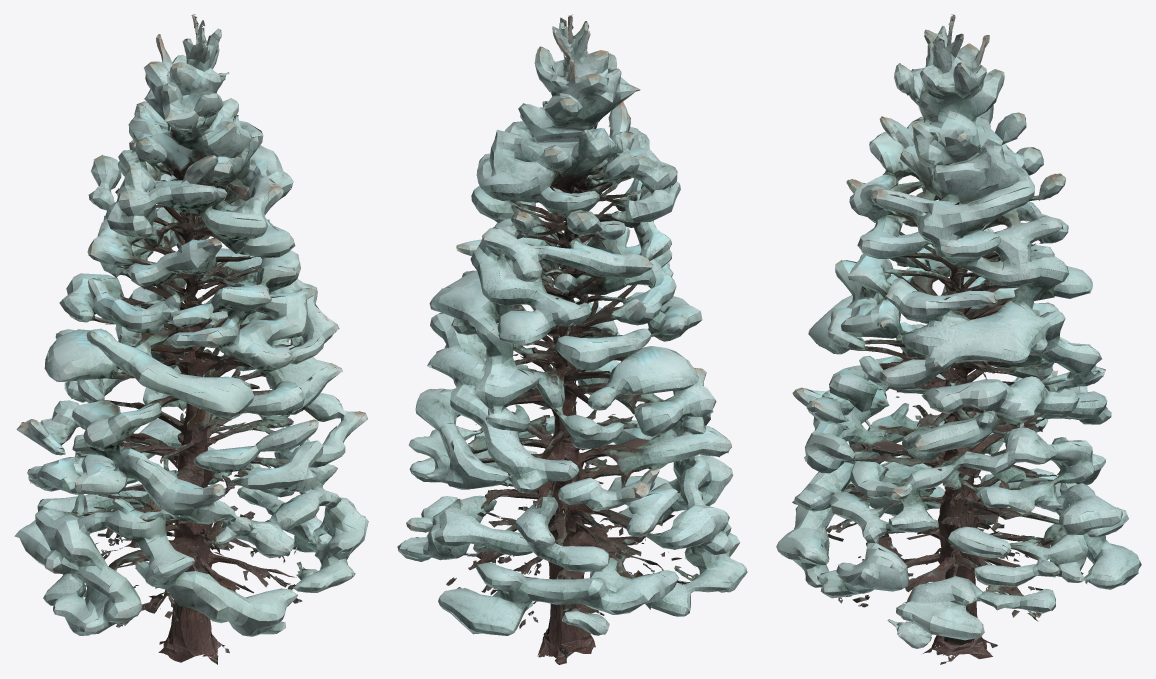
Rendered from veg_conifer_cedar_01.glb.
3 renders of one model, left to right at view 1: azimuth 30°, elevation 25°; view 2: azimuth 150°, elevation 25°; view 3: azimuth 270°, elevation 25°, orthographic.
Visible parts, largest first — view 1: veg_conifer_cedar_01; view 2: veg_conifer_cedar_01; view 3: veg_conifer_cedar_01.
Part boxes in pixels (box(x1,y1,x2,y2)): veg_conifer_cedar_01: box(14, 14, 368, 664); veg_conifer_cedar_01: box(397, 14, 747, 664); veg_conifer_cedar_01: box(776, 14, 1141, 664).
Bounding box in the file's own units: 9.48 × 19.19 × 10.
Materials: 1 (1 with a texture image).
